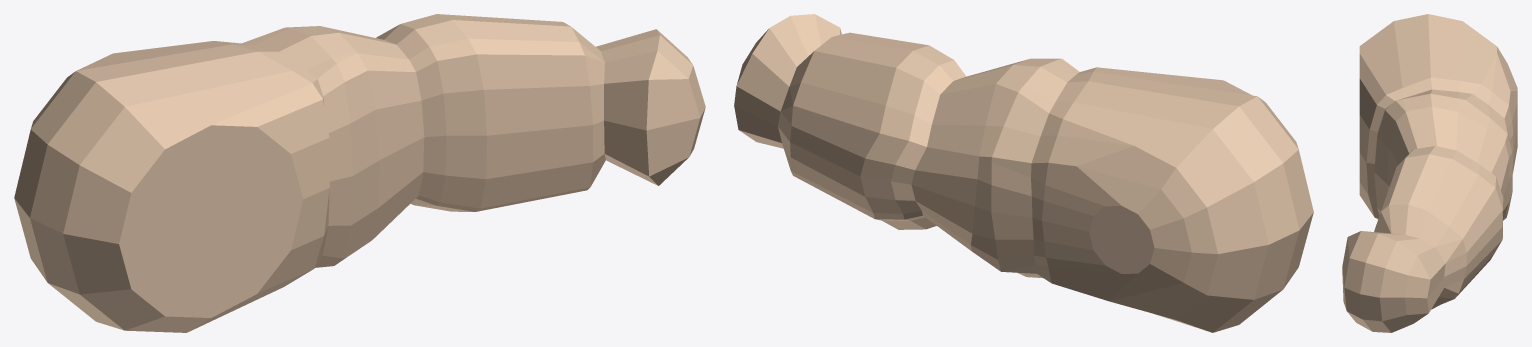
File: ArmProjectile.fbx
The picture shows the model from 3 angles, left to right: view 1: azimuth 30°, elevation 25°; view 2: azimuth 150°, elevation 25°; view 3: azimuth 270°, elevation 25°; orthographic projection. The views are drawn at different scales.
Visible parts, largest first — view 1: Cylinder; view 2: Cylinder; view 3: Cylinder.
Part boxes in pixels (<box>): Cylinder: <box>14,14,705,332</box>; Cylinder: <box>734,14,1313,332</box>; Cylinder: <box>1342,14,1517,332</box>.
Size of the model in its own units: 596 by 223 by 204.
